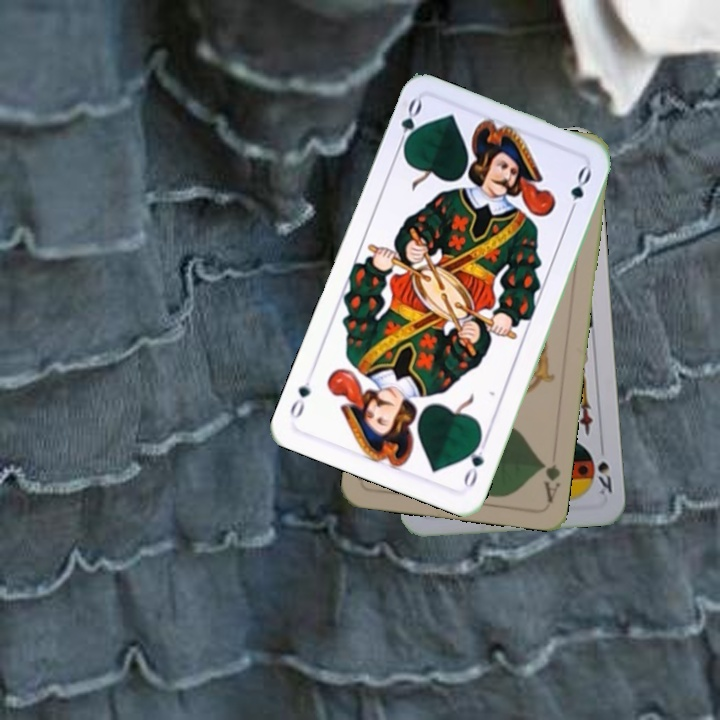GA: (537, 455, 563, 505)
GO: (392, 95, 425, 155), (459, 433, 491, 490)
SK: (594, 440, 615, 499)
